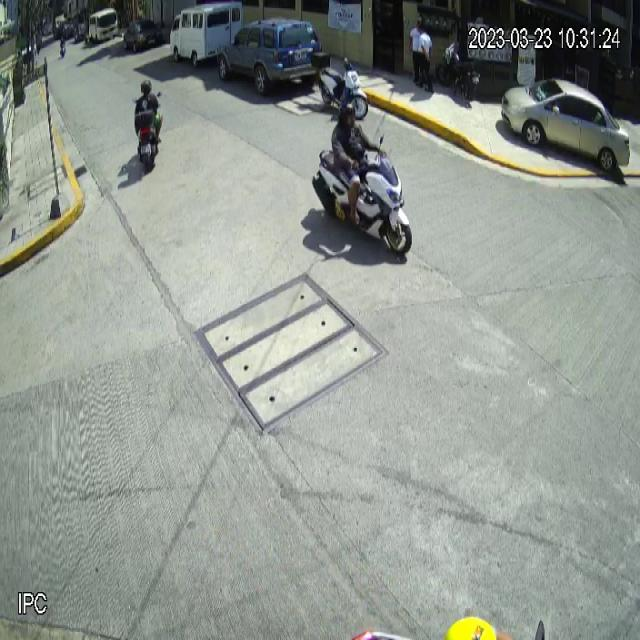Car: (501, 77, 632, 176), (215, 14, 322, 97)
Motorcycle: (310, 134, 416, 270), (311, 51, 369, 120)
Van: (169, 0, 243, 68)
